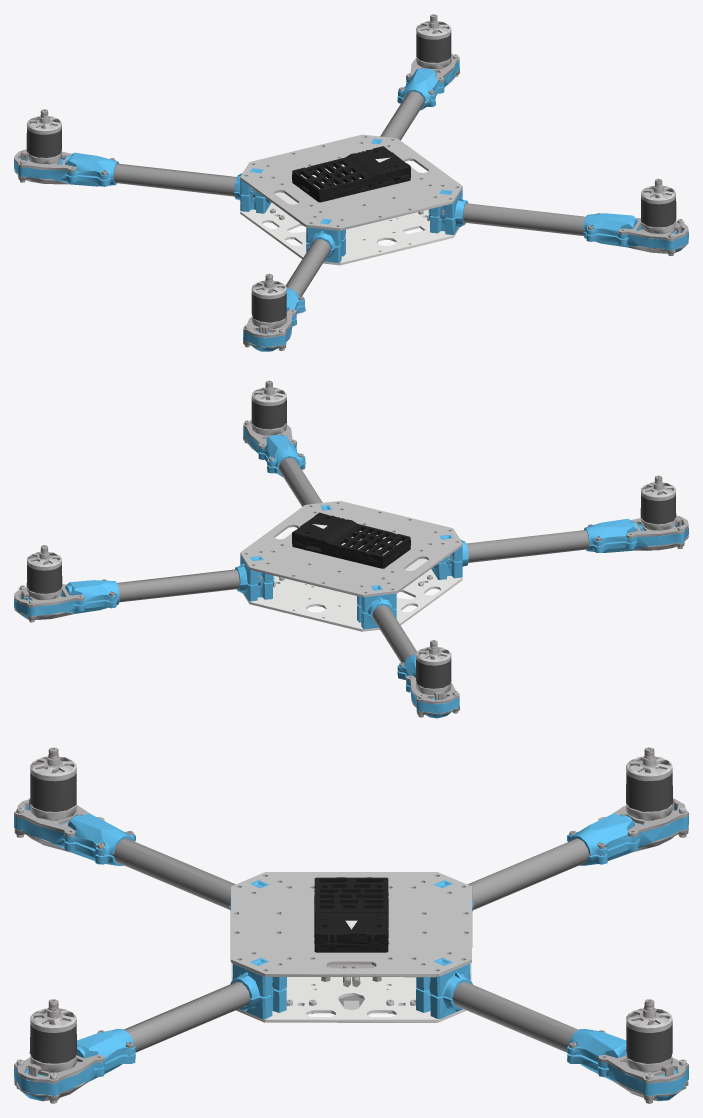
Rendered from x500_torsional.dae.
3 renders of one model, top to bottom at view 1: azimuth 30°, elevation 25°; view 2: azimuth 150°, elevation 25°; view 3: azimuth 270°, elevation 25°, orthographic. The views are drawn at different scales.
Visible parts, largest first — view 1: torsional_quad_frame; view 2: torsional_quad_frame; view 3: torsional_quad_frame.
Part boxes in pixels (bbox=[...]): torsional_quad_frame: bbox=[14, 14, 688, 351]; torsional_quad_frame: bbox=[14, 380, 688, 718]; torsional_quad_frame: bbox=[14, 747, 688, 1103].
Size of the model in its own units: 0.4008 by 0.4008 by 0.0807.
